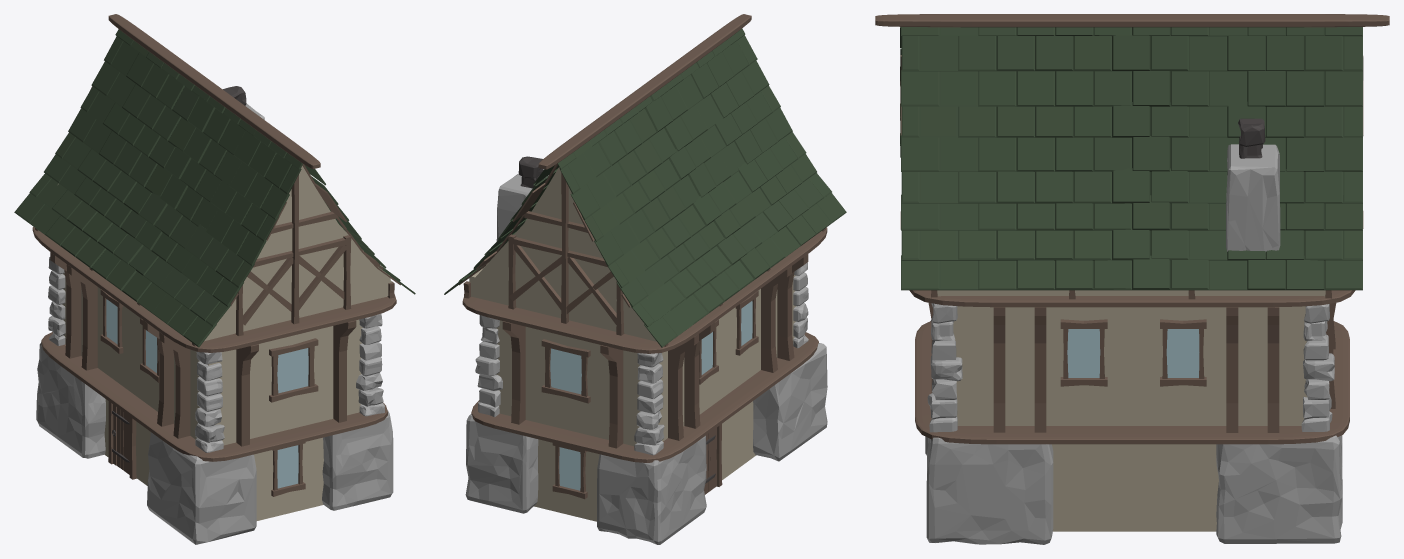
Rendered from House.fbx.
The picture shows the model from 3 angles, left to right: view 1: azimuth 30°, elevation 25°; view 2: azimuth 150°, elevation 25°; view 3: azimuth 270°, elevation 25°; orthographic projection. The views are drawn at different scales.
Parts seen in each view (by area): view 1: Cube, Plane.012, Cube.039, Cube.135, Cube.134, Cube.132, Cube.042, Cube.131, Cube.127, Cube.129, Cube.133, Cube.040 (+17 smaller); view 2: Cube, Plane.013, Cube.038, Cube.135, Cube.134, Cube.132, Cube.042, Cube.131, Cube.127, Cube.129, Cube.133, Cube.039 (+19 smaller); view 3: Cube, Cube.139, Cube.138, Cube.141, Cube.041, Cube.145, Cube.140, Cube.142, Cube.144, Cube.040, Cube.037, Cube.143 (+13 smaller).
Boxes of the visible parts, bbox=[...] form: Cube: bbox=[62, 273, 362, 445]; Plane.012: bbox=[204, 166, 392, 340]; Cube.039: bbox=[147, 432, 256, 544]; Cube.135: bbox=[91, 61, 289, 219]; Cube.134: bbox=[104, 36, 301, 194]; Cube.132: bbox=[68, 108, 266, 266]; Cube.042: bbox=[41, 332, 387, 461]; Cube.131: bbox=[55, 132, 254, 287]; Cube.127: bbox=[14, 193, 216, 347]; Cube.129: bbox=[29, 173, 231, 326]; Cube.133: bbox=[80, 86, 278, 241]; Cube.040: bbox=[322, 410, 393, 510]; Cube: bbox=[496, 275, 795, 445]; Plane.013: bbox=[471, 167, 655, 340]; Cube.038: bbox=[597, 435, 706, 544]; Cube.135: bbox=[570, 60, 769, 219]; Cube.134: bbox=[559, 35, 757, 194]; Cube.132: bbox=[594, 107, 792, 266]; Cube.042: bbox=[471, 332, 818, 462]; Cube.131: bbox=[608, 131, 806, 288]; Cube.127: bbox=[644, 193, 846, 347]; Cube.129: bbox=[629, 173, 831, 327]; Cube.133: bbox=[582, 85, 780, 241]; Cube.039: bbox=[753, 343, 827, 461]; Cube: bbox=[953, 306, 1307, 425]; Cube.139: bbox=[901, 35, 1362, 71]; Cube.138: bbox=[901, 70, 1362, 106]; Cube.141: bbox=[901, 135, 1362, 171]; Cube.041: bbox=[1052, 444, 1218, 531]; Cube.145: bbox=[901, 255, 1362, 290]; Cube.140: bbox=[901, 101, 1362, 137]; Cube.142: bbox=[901, 168, 1362, 203]; Cube.144: bbox=[901, 227, 1362, 260]; Cube.040: bbox=[926, 437, 1053, 544]; Cube.037: bbox=[1216, 435, 1342, 543]; Cube.143: bbox=[901, 194, 1362, 230].
Bounding box in the file's own units: 410 × 671 × 666.
